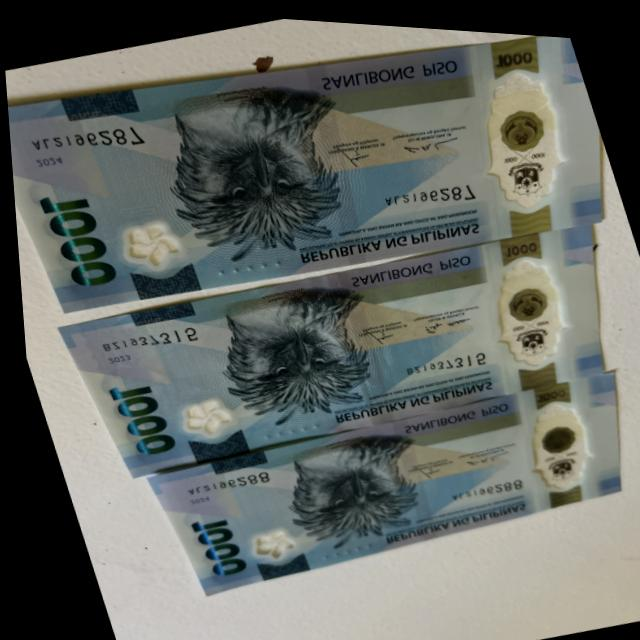clear_window: (455, 54, 589, 217), (472, 243, 581, 375), (507, 384, 608, 496)
eagle: (129, 63, 370, 278), (203, 274, 387, 437), (267, 413, 431, 557)
sampaguita: (104, 214, 184, 279), (169, 388, 239, 448), (237, 516, 295, 564)
serial_number: (20, 109, 152, 169), (370, 161, 487, 218), (89, 312, 200, 365), (392, 333, 498, 383), (171, 458, 274, 506), (439, 464, 528, 508), (315, 157, 358, 232)
value: (183, 508, 241, 581)
